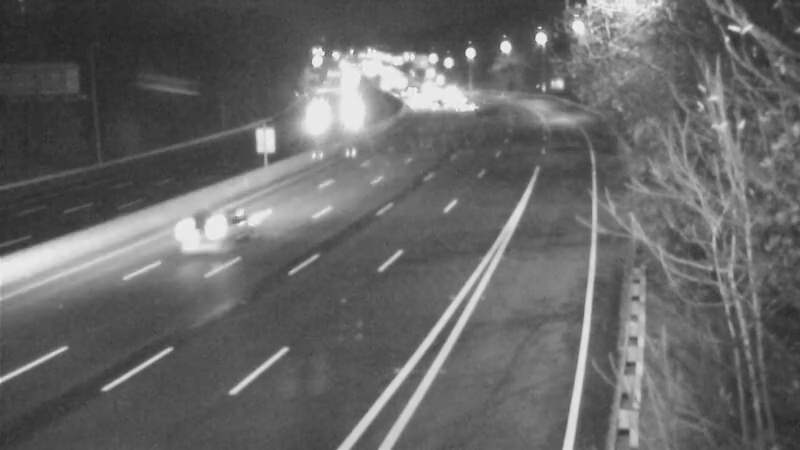vehicle: (161, 188, 241, 268), (395, 72, 445, 122), (438, 87, 488, 137), (409, 84, 459, 134), (292, 94, 342, 144), (325, 83, 375, 133)
